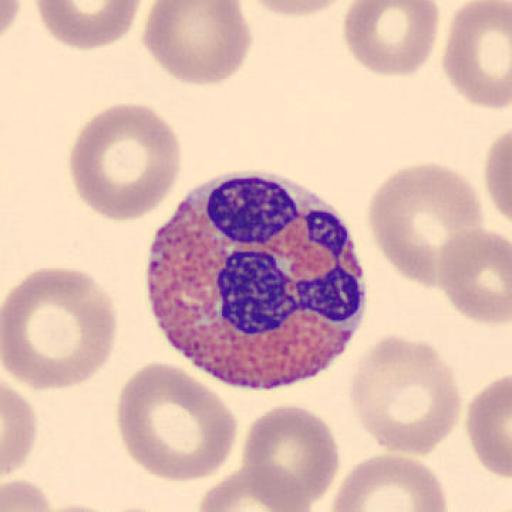RBC: (115, 359, 239, 484), (367, 161, 485, 289), (0, 265, 117, 392), (348, 331, 464, 457), (68, 101, 182, 222), (240, 404, 342, 510), (141, 0, 253, 86), (342, 0, 442, 78), (442, 0, 512, 110), (438, 226, 512, 326), (330, 453, 448, 512), (34, 0, 144, 51), (194, 465, 312, 512), (466, 372, 512, 482), (2, 376, 38, 480), (485, 127, 512, 265), (483, 126, 512, 224), (241, 0, 355, 18), (0, 476, 53, 512), (0, 0, 23, 44), (33, 500, 118, 511), (38, 502, 117, 512), (92, 503, 172, 512)
WBC: (143, 176, 369, 392)
